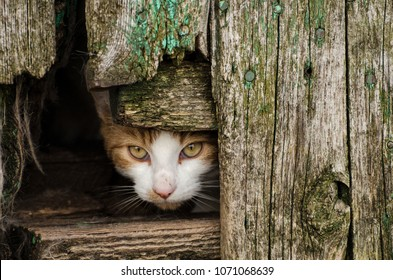Cat: (105, 129, 222, 213)
